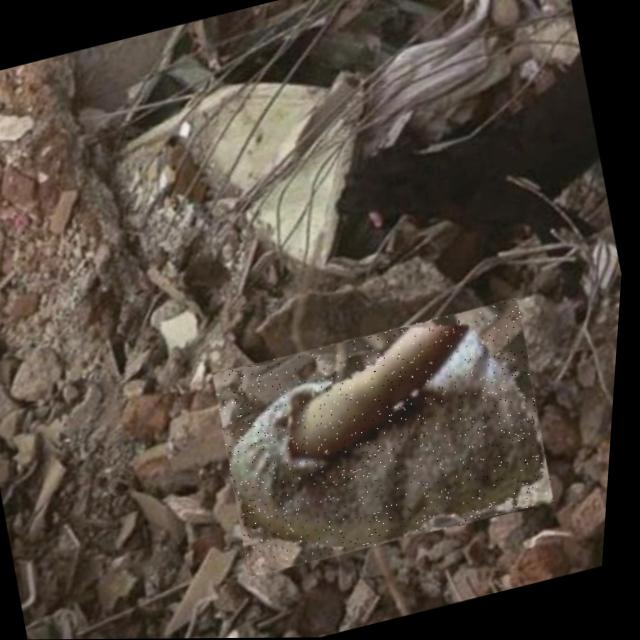Person in Rubble: (206, 297, 572, 578)
